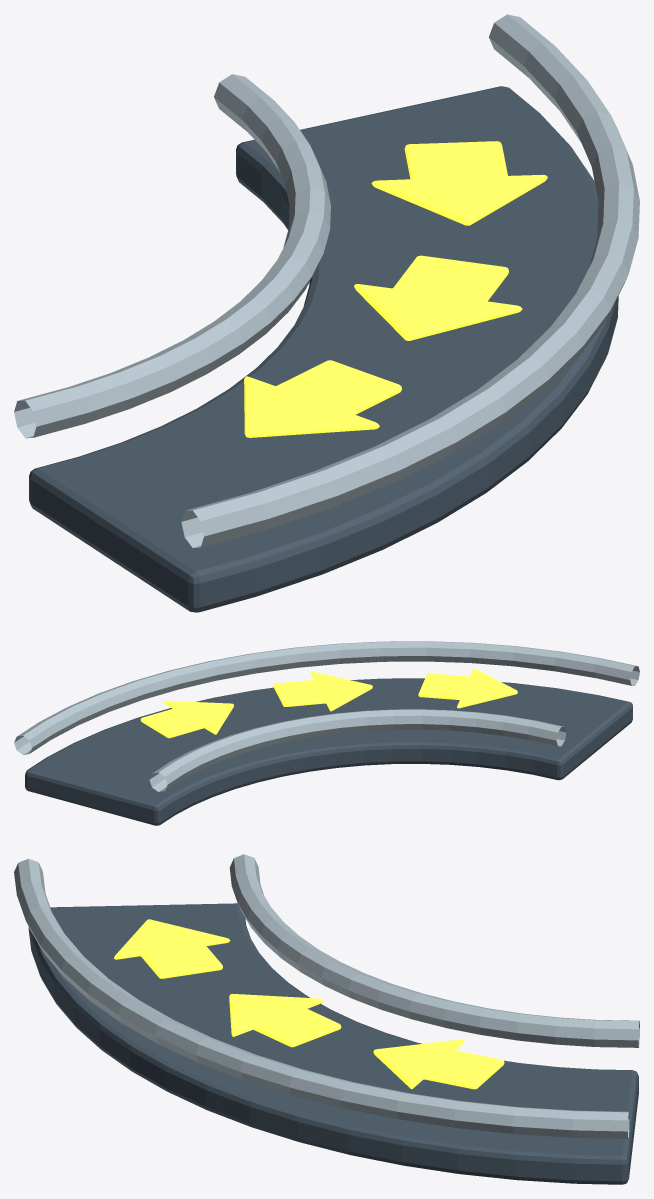
Rendered from PR3D_Rail_Curve90_Right.fbx.
3 renders of one model, top to bottom at view 1: azimuth 30°, elevation 25°; view 2: azimuth 150°, elevation 25°; view 3: azimuth 270°, elevation 25°, orthographic. The views are drawn at different scales.
Parts seen in each view (by area): view 1: Visual_CurveDeck_Right, Visual_CurveRail_Right_+1, Visual_CurveRail_Right_-1, Arrow_Curve_Right_12, Arrow_Curve_Right_04, Arrow_Curve_Right_08; view 2: Visual_CurveDeck_Right, Visual_CurveRail_Right_+1, Visual_CurveRail_Right_-1, Arrow_Curve_Right_08, Arrow_Curve_Right_12, Arrow_Curve_Right_04; view 3: Visual_CurveDeck_Right, Visual_CurveRail_Right_+1, Visual_CurveRail_Right_-1, Arrow_Curve_Right_04, Arrow_Curve_Right_08, Arrow_Curve_Right_12.
Part boxes in pixels (box(x1,y1,x2,y2)): Visual_CurveDeck_Right: box(29, 86, 618, 612); Visual_CurveRail_Right_+1: box(181, 14, 639, 547); Visual_CurveRail_Right_-1: box(14, 74, 330, 438); Arrow_Curve_Right_12: box(244, 360, 401, 437); Arrow_Curve_Right_04: box(371, 141, 547, 225); Arrow_Curve_Right_08: box(354, 255, 522, 340); Visual_CurveDeck_Right: box(25, 678, 632, 825); Visual_CurveRail_Right_+1: box(14, 641, 639, 754); Visual_CurveRail_Right_-1: box(149, 709, 566, 791); Arrow_Curve_Right_08: box(273, 671, 372, 711); Arrow_Curve_Right_12: box(418, 668, 517, 708); Arrow_Curve_Right_04: box(140, 700, 233, 738); Visual_CurveDeck_Right: box(28, 903, 638, 1184); Visual_CurveRail_Right_+1: box(14, 858, 629, 1138); Visual_CurveRail_Right_-1: box(229, 854, 639, 1047); Arrow_Curve_Right_04: box(373, 1039, 504, 1089); Arrow_Curve_Right_08: box(229, 994, 341, 1047); Arrow_Curve_Right_12: box(114, 919, 230, 978).
Bounding box in the file's own units: 2.38 × 0.315 × 2.38.
